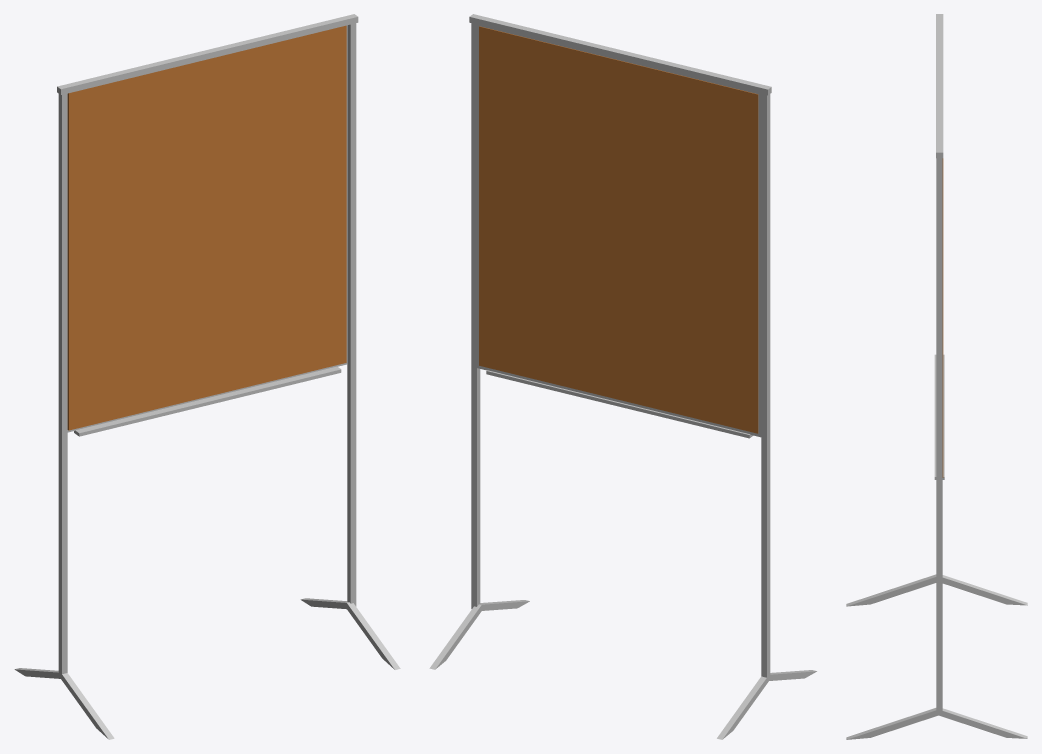
The model's file is board.obj.
3 renders of one model, left to right at view 1: azimuth 30°, elevation 25°; view 2: azimuth 150°, elevation 25°; view 3: azimuth 270°, elevation 25°, orthographic. The views are drawn at different scales.
Parts seen in each view (by area): view 1: Cube.018_Cube.027; view 2: Cube.018_Cube.027; view 3: Cube.018_Cube.027.
Boxes of the visible parts, x1,y1,x2,y2 form: Cube.018_Cube.027: (14, 14, 400, 739); Cube.018_Cube.027: (429, 14, 816, 739); Cube.018_Cube.027: (846, 14, 1027, 739).
Size of the model in its own units: 7.24 by 14.34 by 4.
